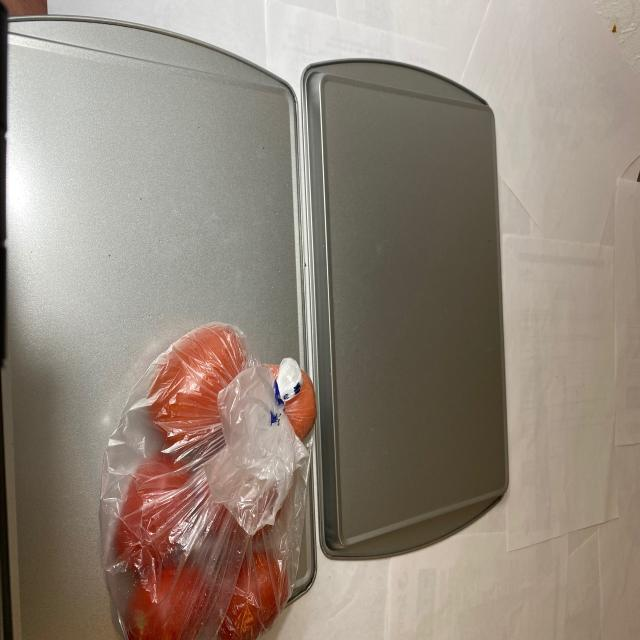tomato: (103, 330, 318, 632)
